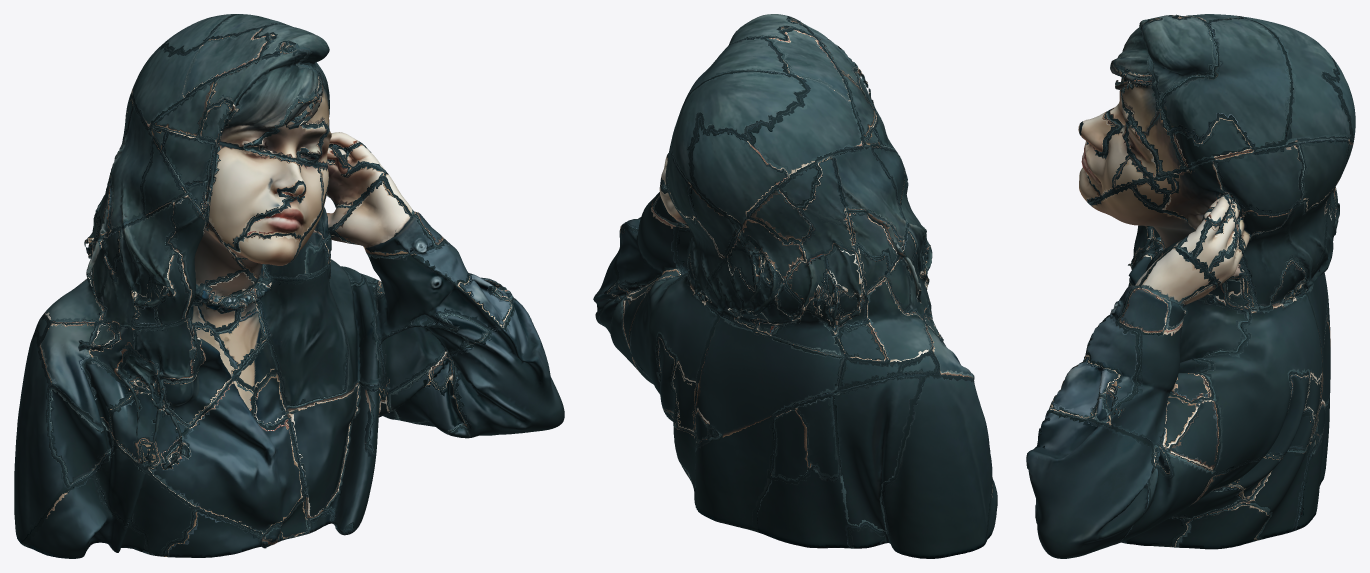
The model's file is amrita.glb.
The picture shows the model from 3 angles, left to right: view 1: azimuth 30°, elevation 25°; view 2: azimuth 150°, elevation 25°; view 3: azimuth 270°, elevation 25°; orthographic projection. The views are drawn at different scales.
Visible parts, largest first — view 1: tripo_node_d416a979-b62b-4abd-9b8e-679e4df27d61; view 2: tripo_node_d416a979-b62b-4abd-9b8e-679e4df27d61; view 3: tripo_node_d416a979-b62b-4abd-9b8e-679e4df27d61.
Part boxes in pixels (x1,y1,x2,y2): tripo_node_d416a979-b62b-4abd-9b8e-679e4df27d61: (14, 14, 564, 558); tripo_node_d416a979-b62b-4abd-9b8e-679e4df27d61: (593, 14, 997, 558); tripo_node_d416a979-b62b-4abd-9b8e-679e4df27d61: (1026, 14, 1355, 558).
Bounding box in the file's own units: 0.9799 × 0.9471 × 0.5685.
Materials: 1 (1 with a texture image).
